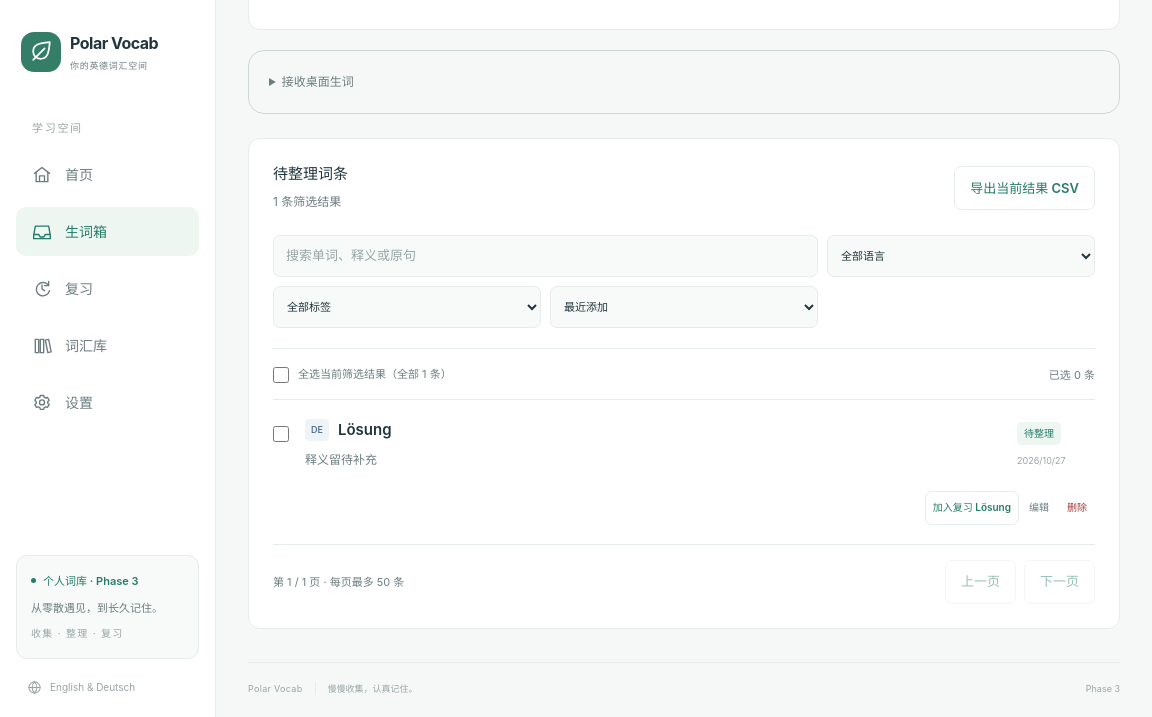
Scenario: 本机词库交互 › 删除先确认，取消无写入，确认保留永久删除证据
(page scrolled)
Click the button with aria-label "删除 Lösung" at (1077, 508), box [1059,491,1095,525]
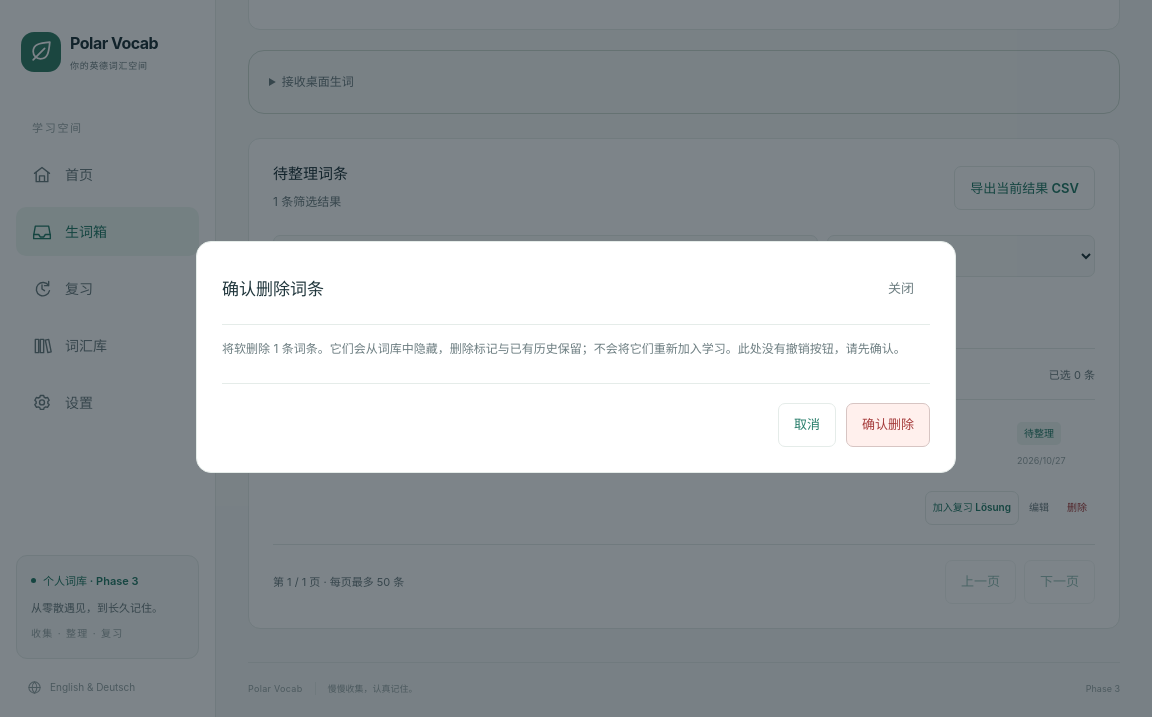
Click the button "取消" at (807, 425), box [778,403,836,447]
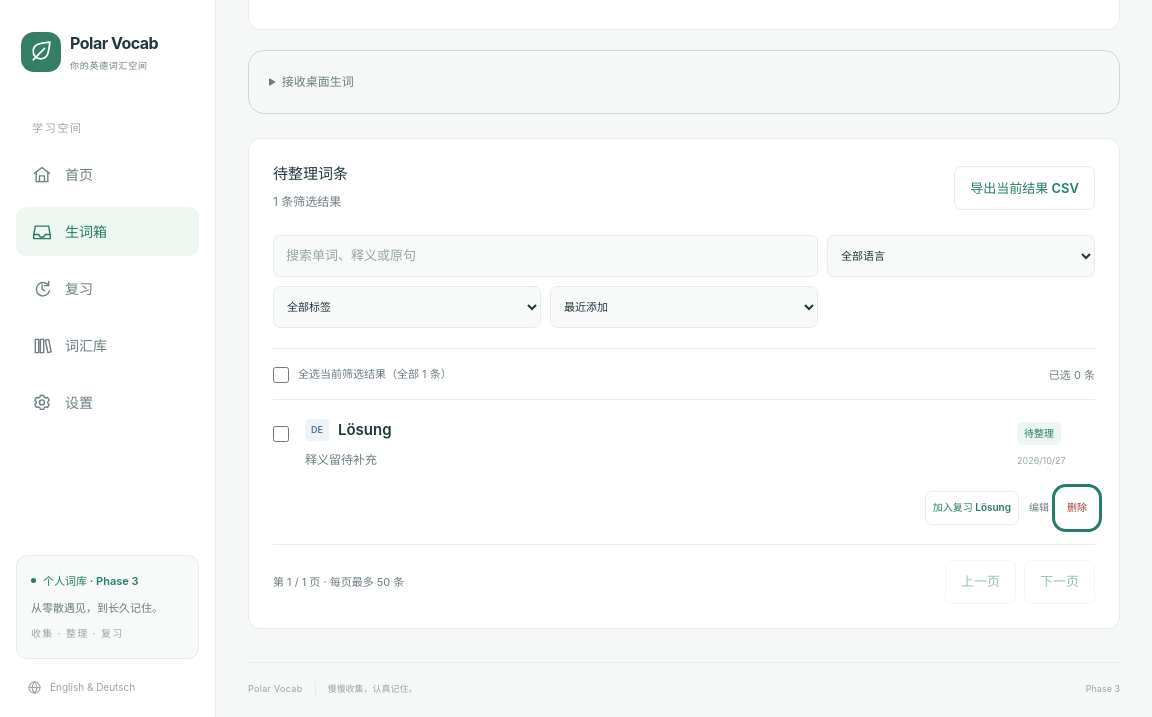
Click the button with aria-label "删除 Lösung" at (1077, 508), box [1059,491,1095,525]
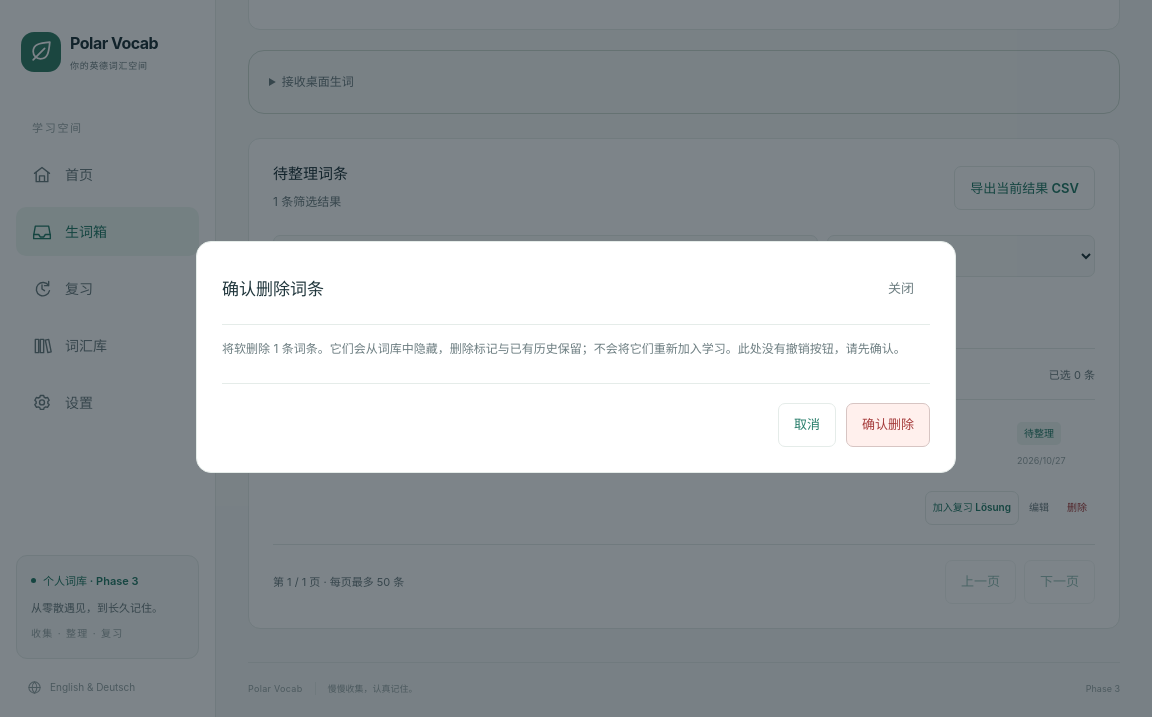
Click the button "确认删除" at (888, 425), box [846,403,930,447]
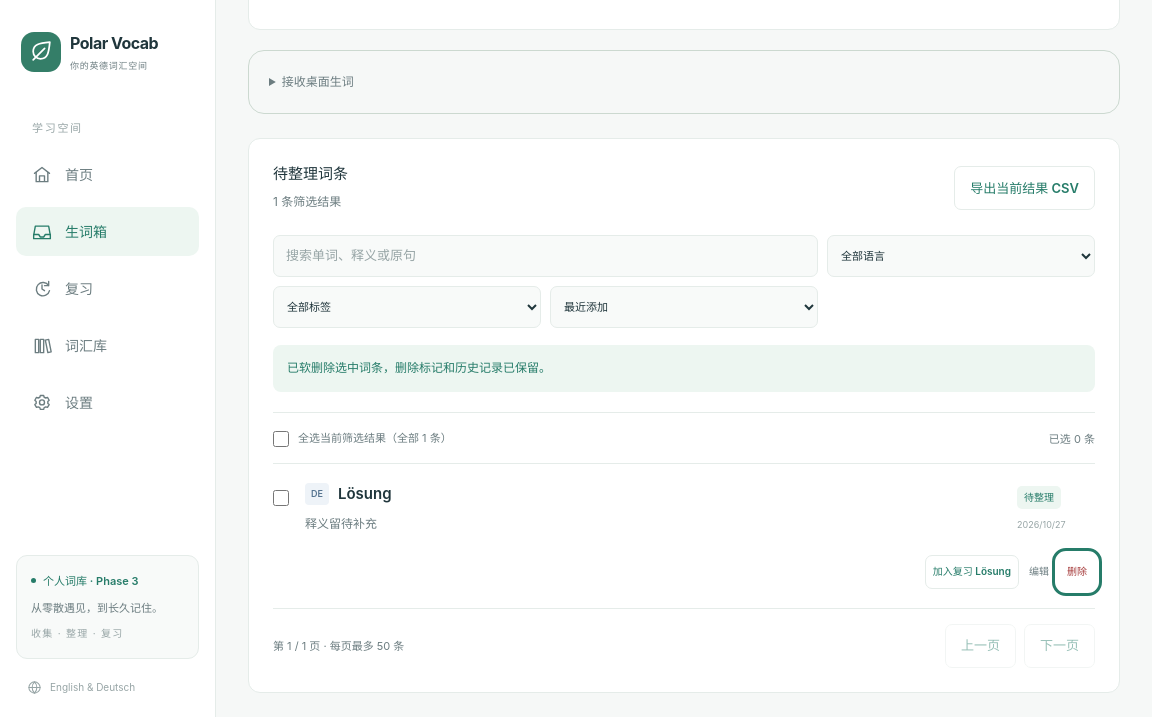
Check: the dialog is gone
